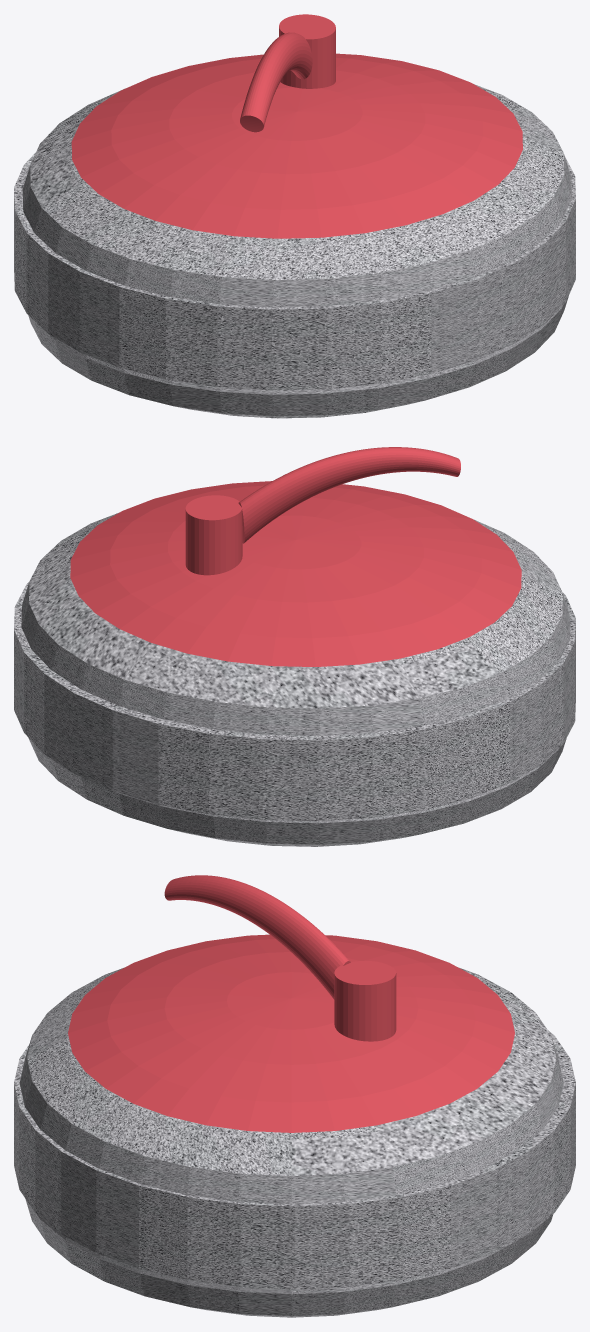
File: red_rock_VRAI.glb
3 views of the same model, one above another, from view 1: azimuth 30°, elevation 25°; view 2: azimuth 150°, elevation 25°; view 3: azimuth 270°, elevation 25° (orthographic). The views are drawn at different scales.
Bounding box in the file's own units: 2.29 × 1.4 × 2.2.
1 material, 1 textured.
